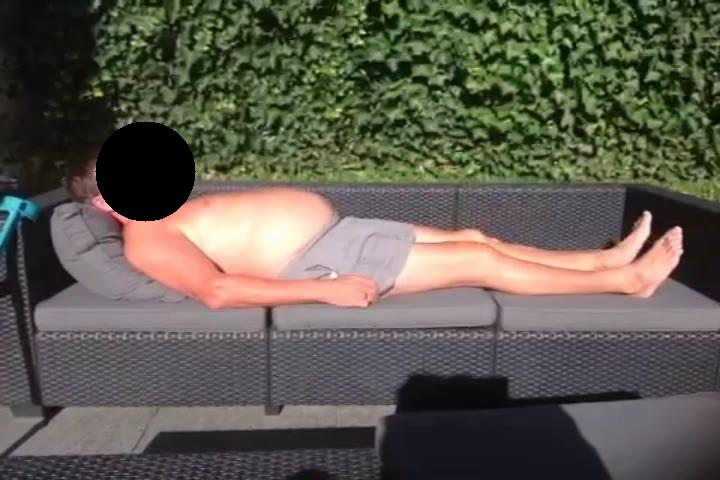lower_body: (325, 207, 688, 303)
